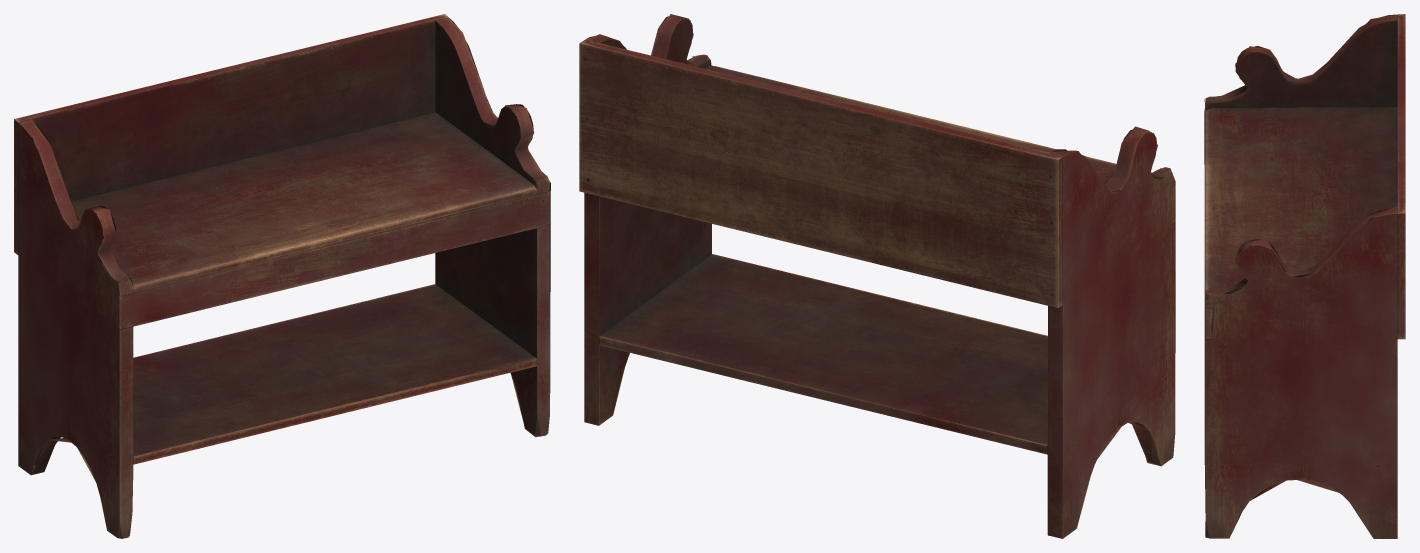
File: bench.glb
The picture shows the model from 3 angles, left to right: view 1: azimuth 30°, elevation 25°; view 2: azimuth 150°, elevation 25°; view 3: azimuth 270°, elevation 25°; orthographic projection. The views are drawn at different scales.
Visible parts, largest first — view 1: painted_wooden_bench; view 2: painted_wooden_bench; view 3: painted_wooden_bench.
Part boxes in pixels (bbox=[...]): painted_wooden_bench: bbox=[14, 14, 550, 538]; painted_wooden_bench: bbox=[579, 14, 1175, 538]; painted_wooden_bench: bbox=[1204, 14, 1405, 538].
Size of the model in its own units: 1.17 by 0.8919 by 0.4977.
1 material, 1 textured.
